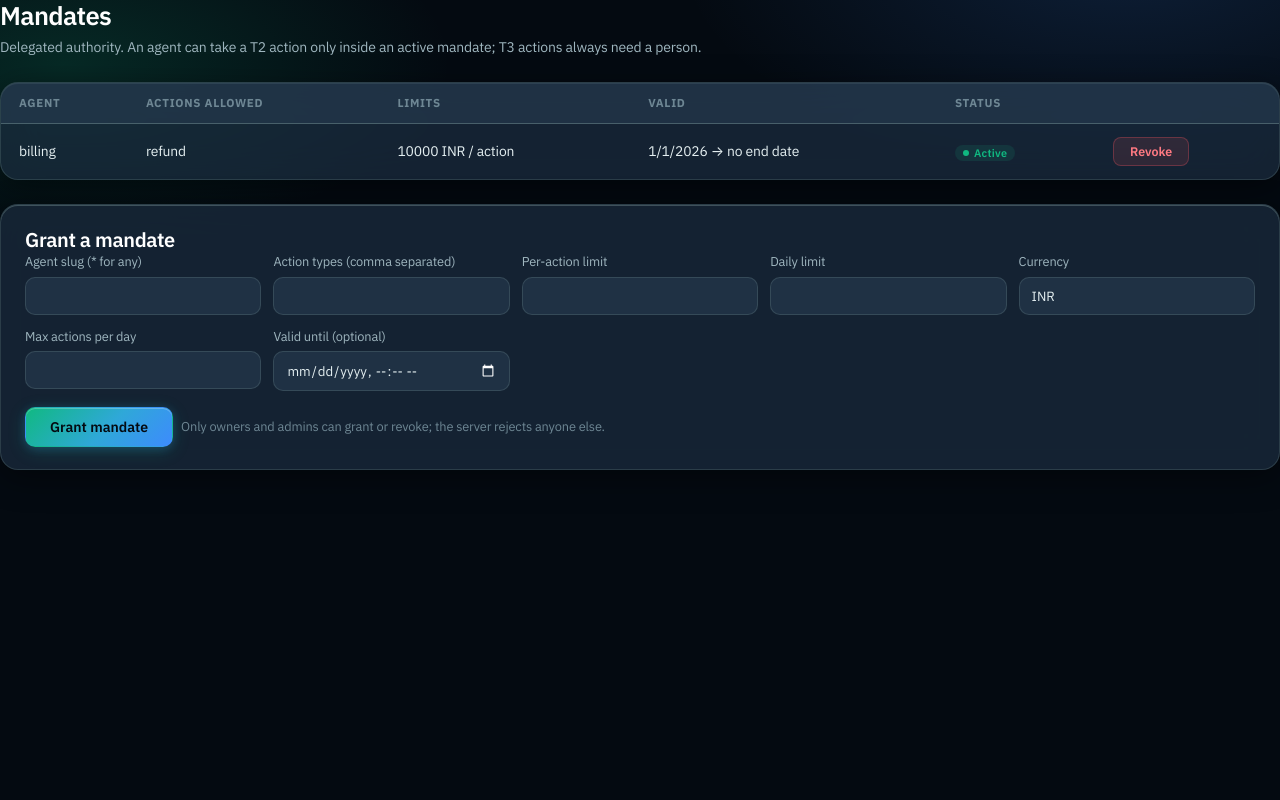
it: Mandates › revoke asks for confirmation, then DELETEs that mandate and reports the server result
The width and height of the screenshot is (1280, 800).
Click the button with aria-label "Revoke mandate for billing".
click(1151, 152)  # box [1113, 138, 1189, 166]
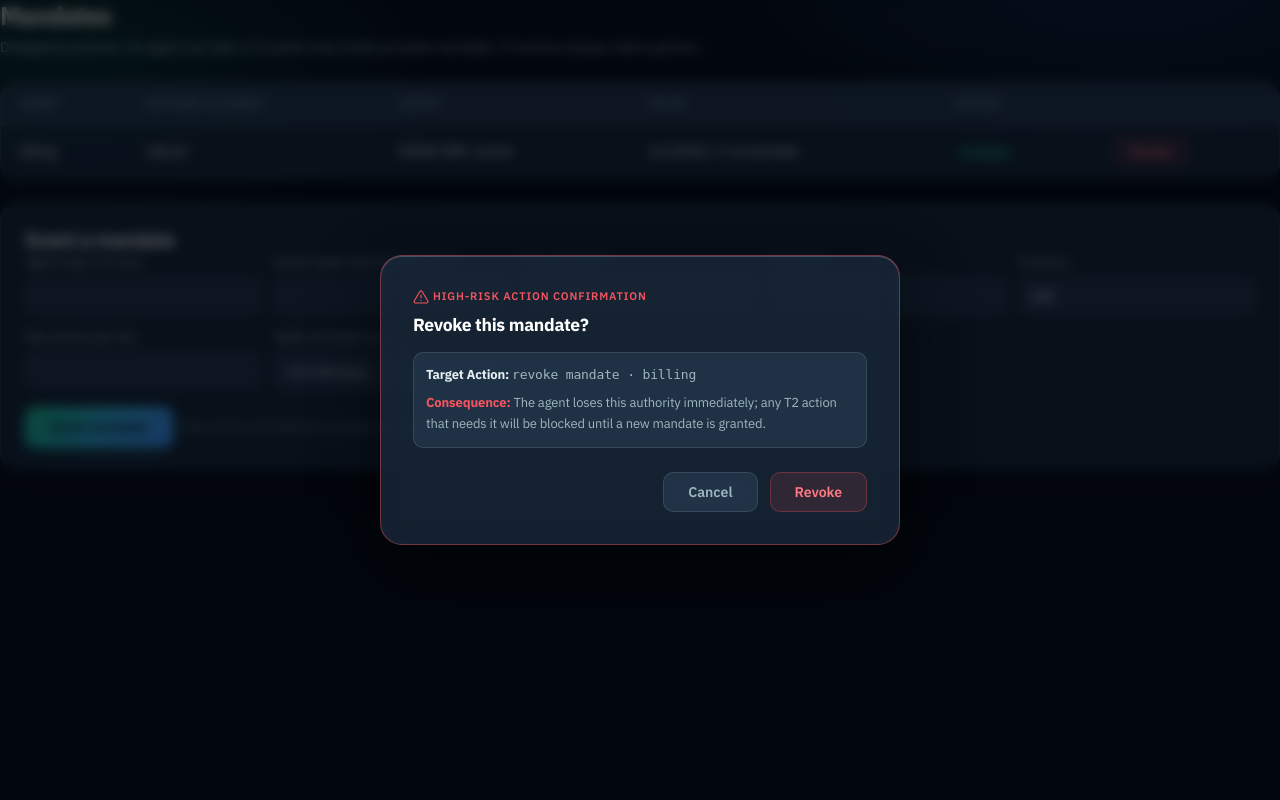
Click the button "Revoke".
click(818, 492)  # box [770, 472, 867, 512]
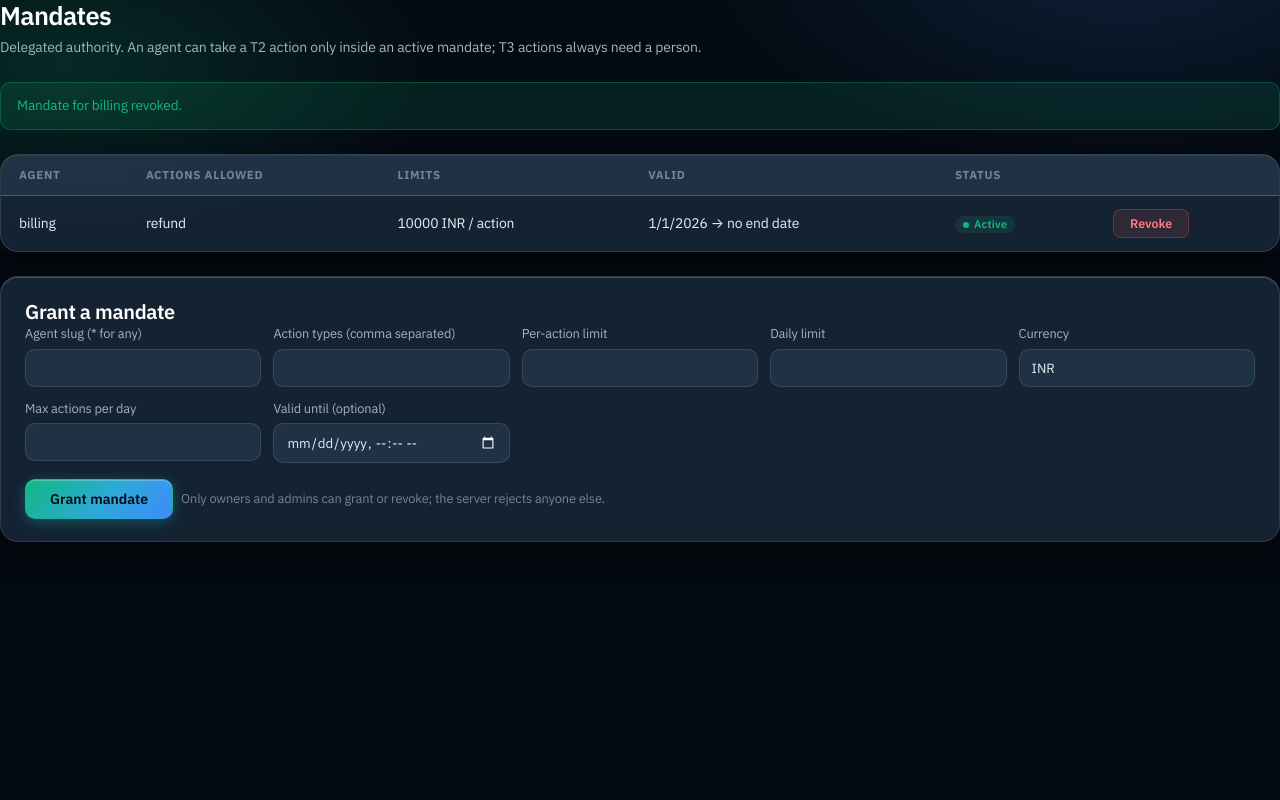
Result: the text "Mandate for billing revoked." is shown at [0, 82, 1279, 130]
